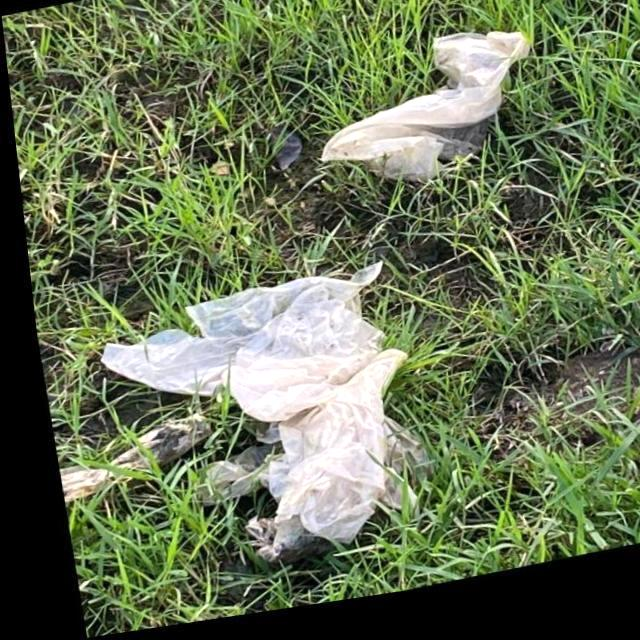polythene: (106, 260, 442, 595), (343, 13, 509, 216)
